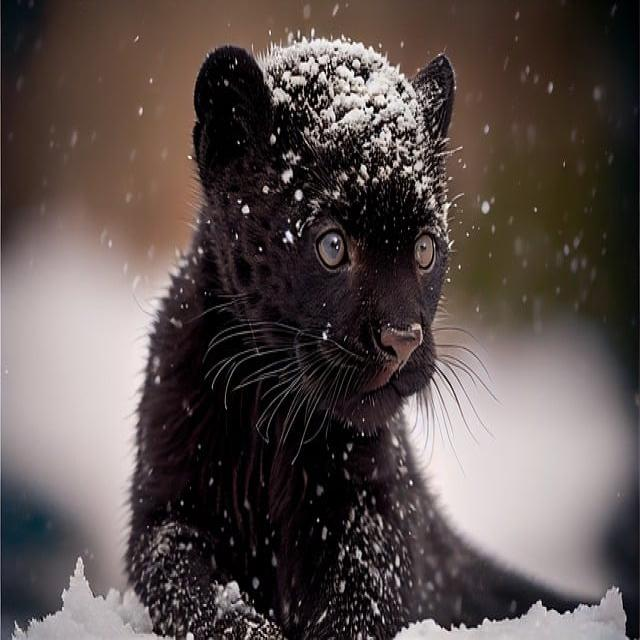Carnivorous: (124, 36, 576, 640)
